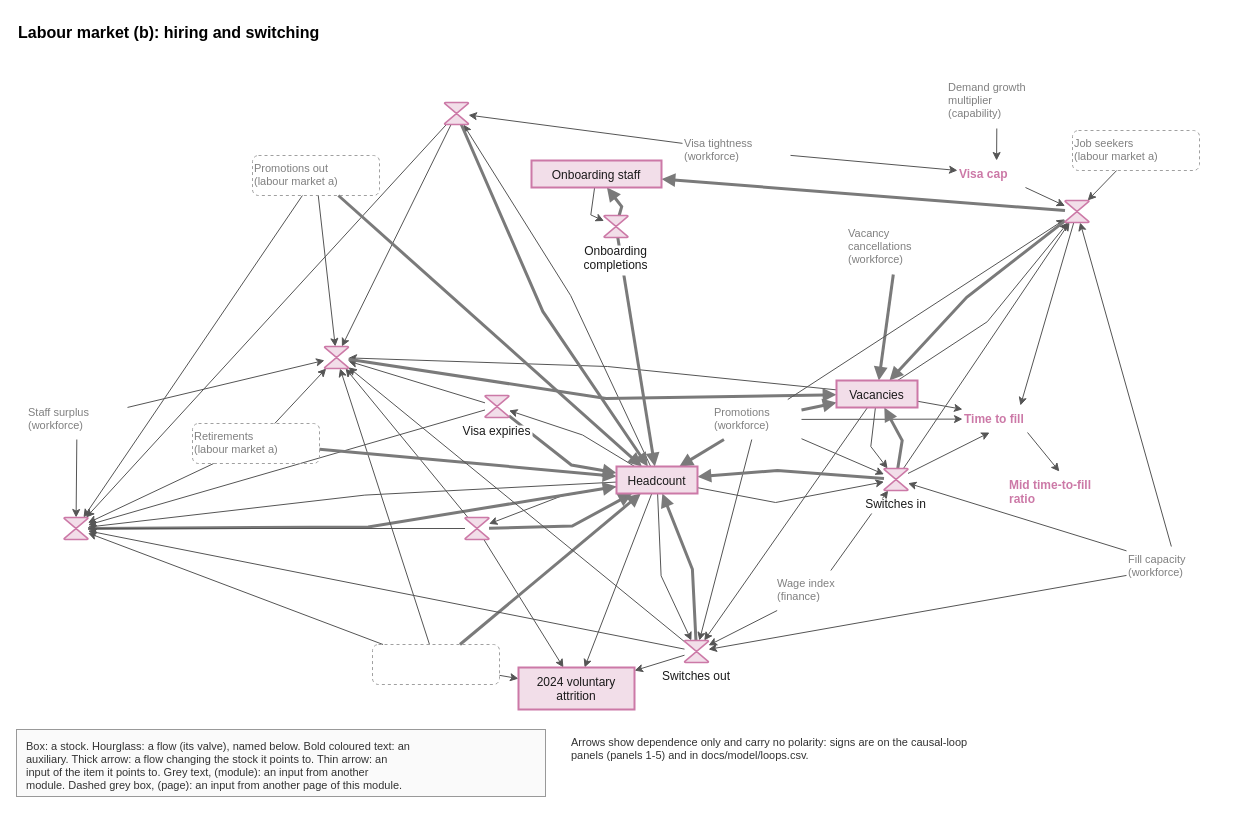
This 1244x813 diagram has some shape labels left out. The shapes that lost their labels are listed below. From the top down, each one's centre as x and y in pixels, then its label:
At pixel 456 113: "Visa conversions".
At pixel 1076 211: "Hires".
At pixel 336 357: "Vacancy openings".
At pixel 75 528: "Layoffs".
At pixel 476 528: "Quits".
At pixel 436 664: "Leaving IT (labour market a)".
